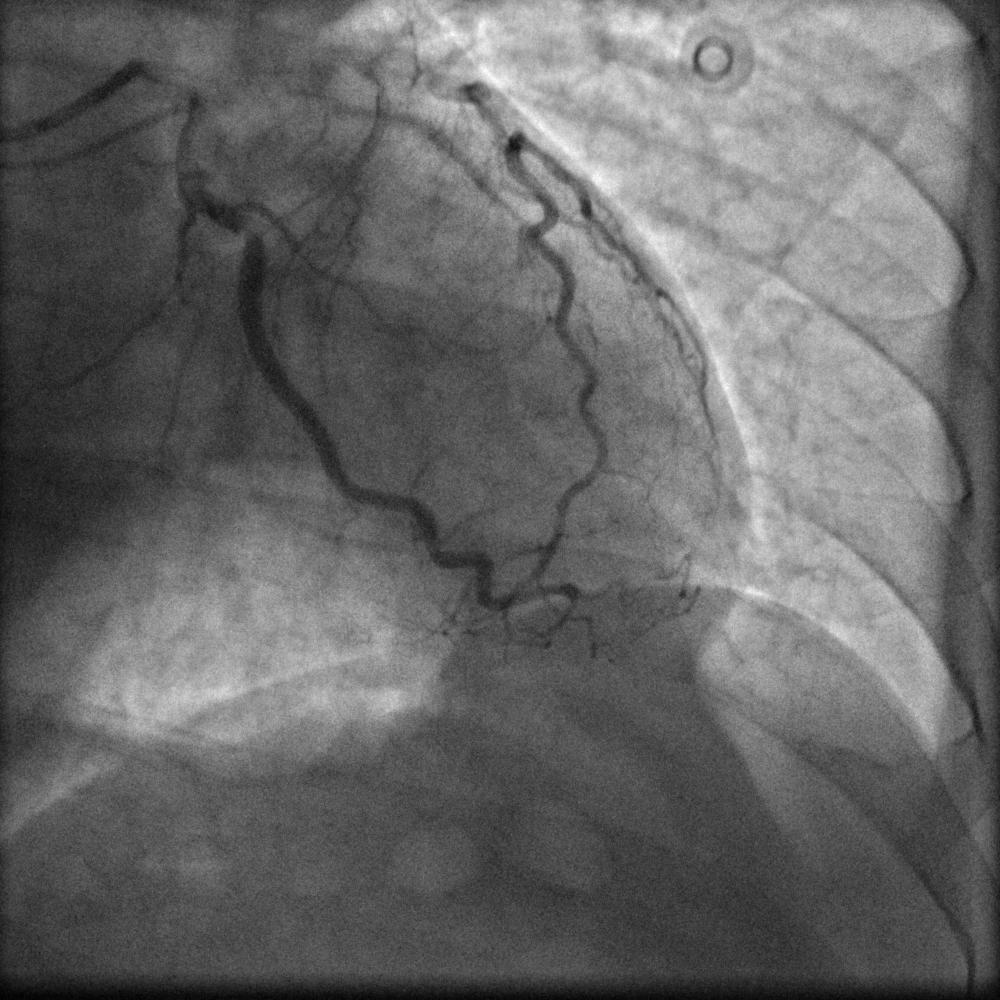Stenosis: (234, 210, 266, 250)
